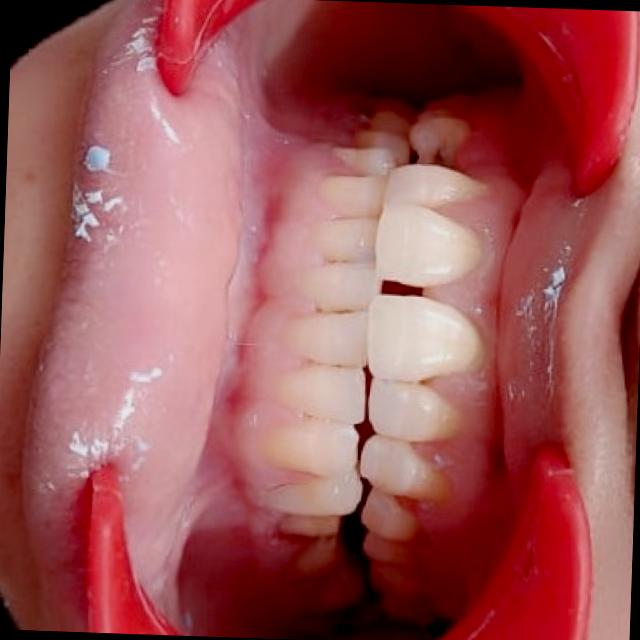No Cancer: (212, 39, 505, 590)
